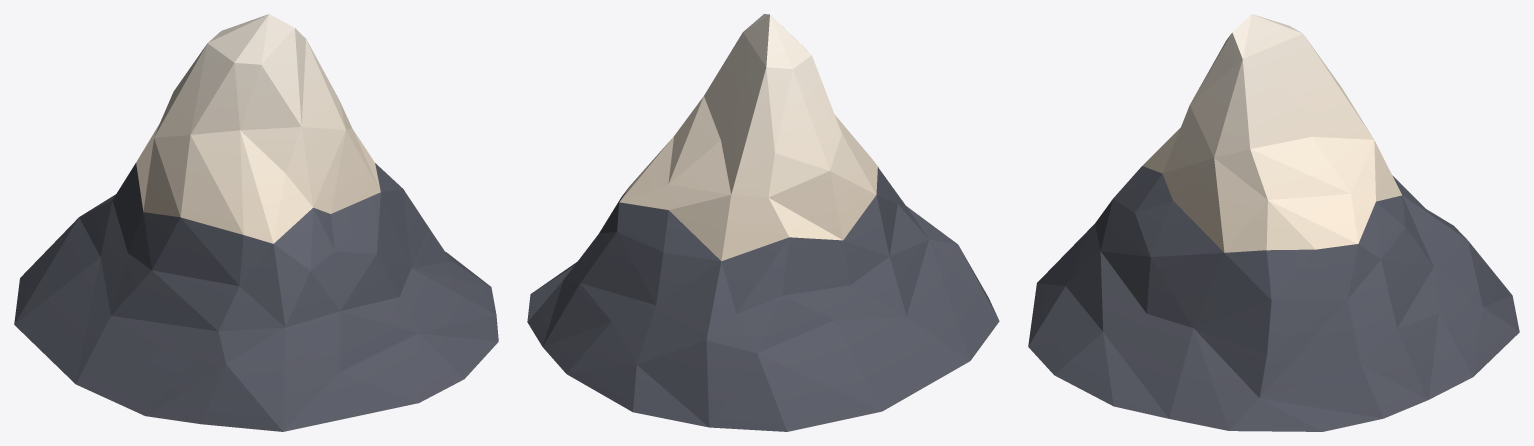
File: Mountain3.fbx
3 renders of one model, left to right at view 1: azimuth 30°, elevation 25°; view 2: azimuth 150°, elevation 25°; view 3: azimuth 270°, elevation 25°, orthographic. The views are drawn at different scales.
Parts seen in each view (by area): view 1: Mountain3; view 2: Mountain3; view 3: Mountain3.
Part boxes in pixels (x1=…): Mountain3: x1=14, y1=14, x2=498, y2=431; Mountain3: x1=527, y1=14, x2=999, y2=431; Mountain3: x1=1028, y1=14, x2=1519, y2=431.
Size of the model in its own units: 2573 by 1879 by 2661.
